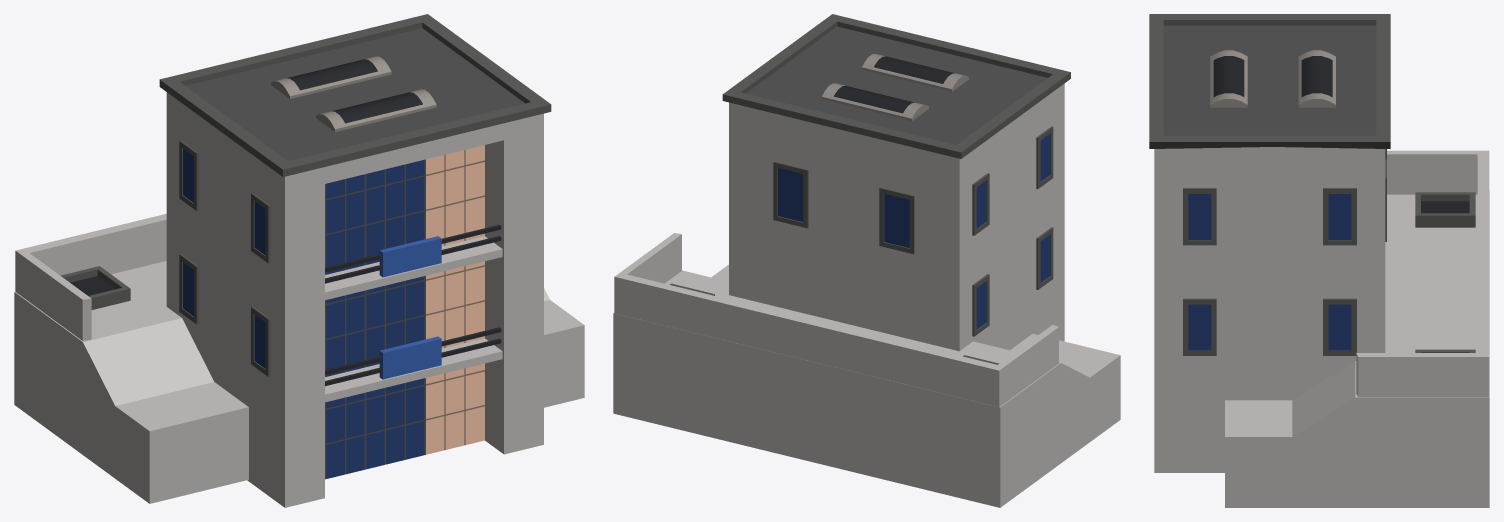
Rendered from Apartment_7.fbx.
3 views of the same model, side by side, from view 1: azimuth 30°, elevation 25°; view 2: azimuth 150°, elevation 25°; view 3: azimuth 270°, elevation 25° (orthographic). The views are drawn at different scales.
Parts seen in each view (by area): view 1: Apartment_7; view 2: Apartment_7; view 3: Apartment_7.
Part boxes in pixels (x1=…): Apartment_7: x1=14, y1=14, x2=584, y2=507; Apartment_7: x1=613, y1=14, x2=1120, y2=507; Apartment_7: x1=1149, y1=14, x2=1489, y2=507.
Bounding box in the file's own units: 878 × 664 × 609.
